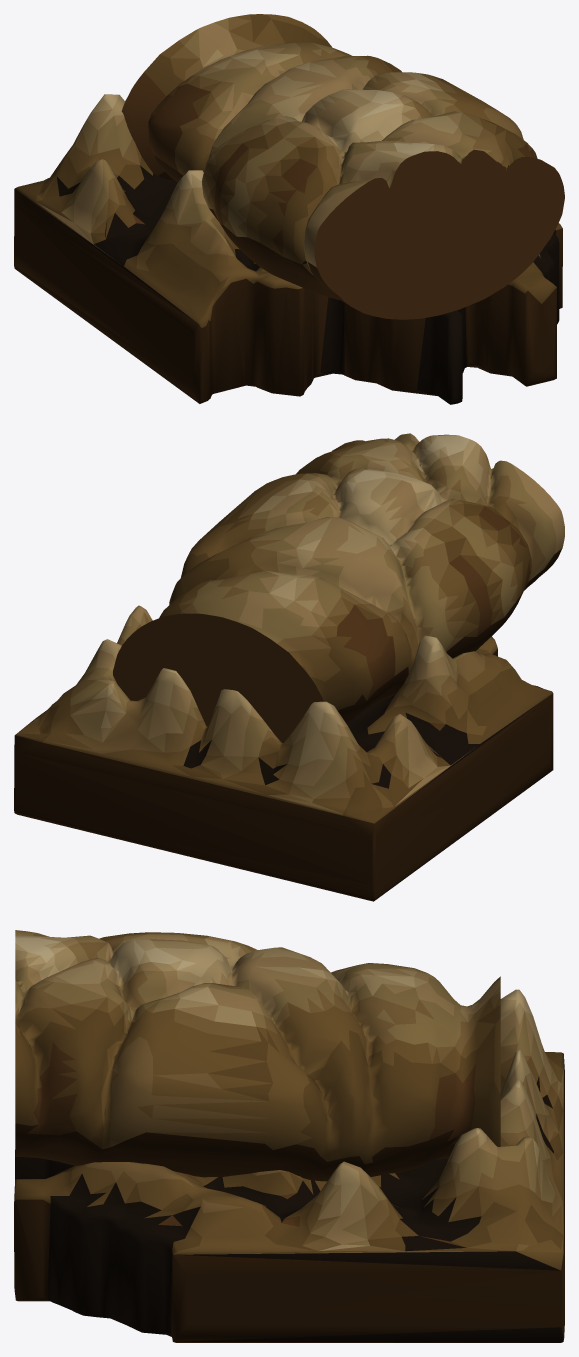
Rendered from ixm_maw_53.glb.
3 views of the same model, one above another, from view 1: azimuth 30°, elevation 25°; view 2: azimuth 150°, elevation 25°; view 3: azimuth 270°, elevation 25° (orthographic). The views are drawn at different scales.
Parts seen in each view (by area): view 1: ixm_maw_53; view 2: ixm_maw_53; view 3: ixm_maw_53.
Part boxes in pixels (x1,y1,x2,y2): ixm_maw_53: (14, 14, 564, 404); ixm_maw_53: (14, 433, 564, 901); ixm_maw_53: (14, 930, 564, 1342).
Size of the model in its own units: 24.14 by 16.17 by 27.95.
